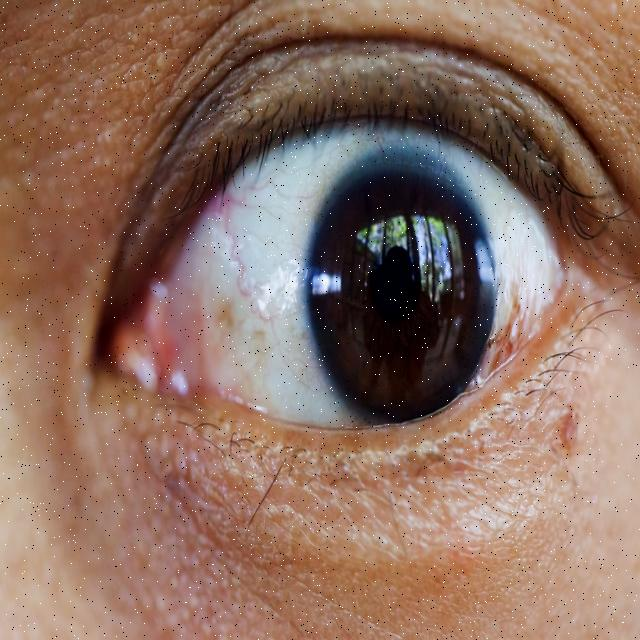Cataract: (270, 108, 543, 466)
